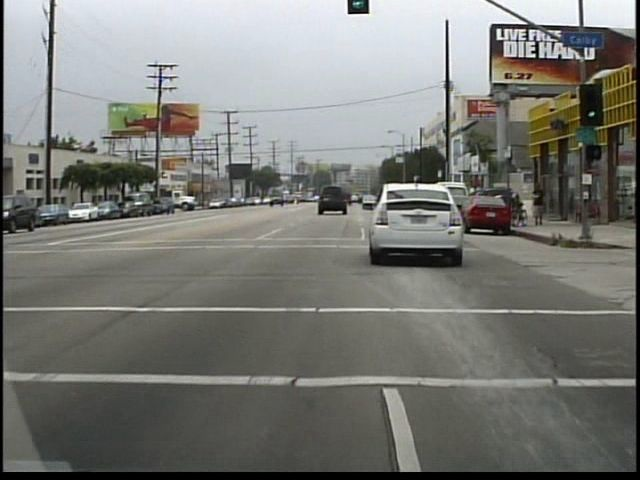person: (529, 178, 551, 232)
